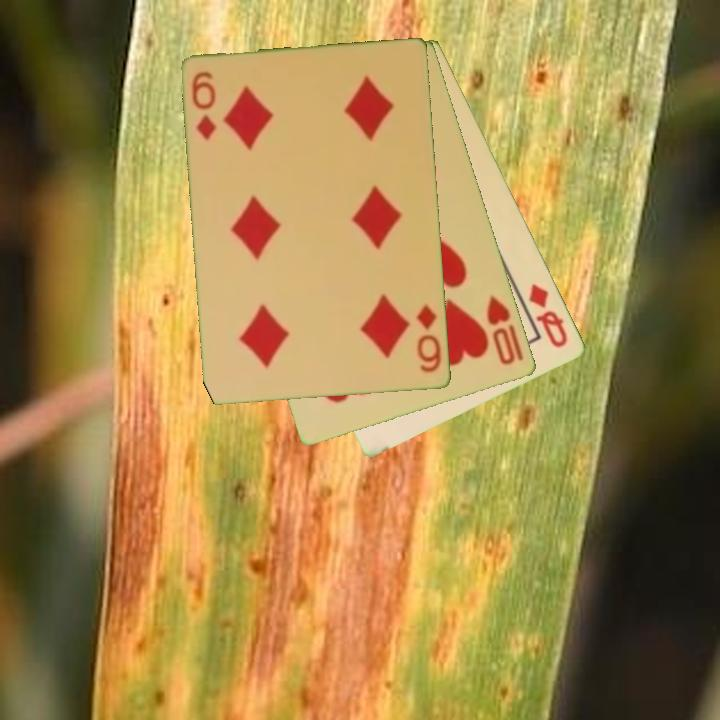10h: (483, 292, 527, 369)
6d: (413, 301, 445, 376), (189, 68, 220, 144)
Qd: (525, 280, 571, 352)
